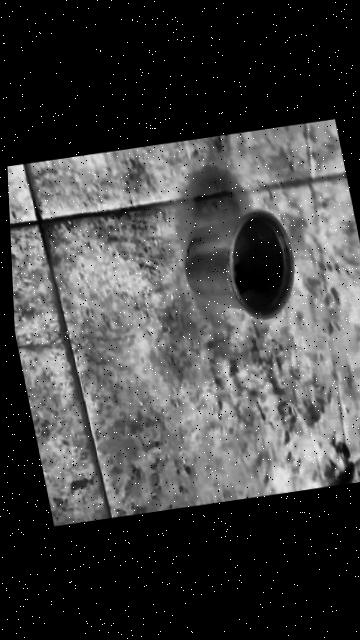pot: (175, 206, 304, 330)
